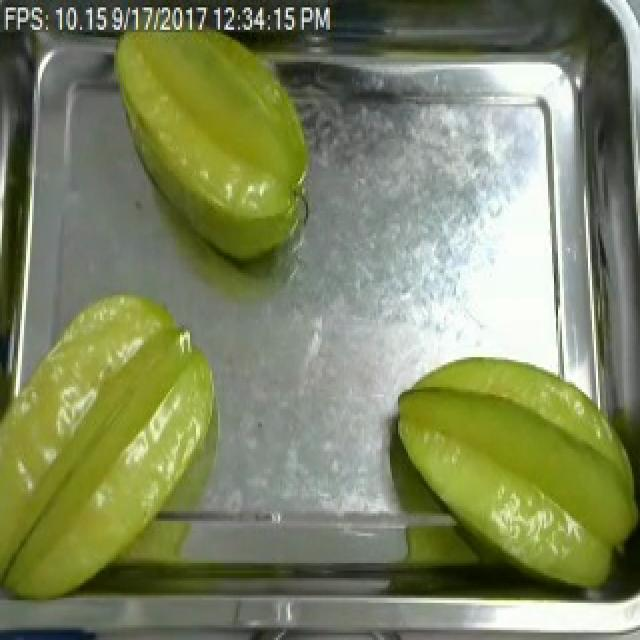fruit: (0, 273, 226, 610), (386, 347, 640, 598), (100, 17, 320, 278)
